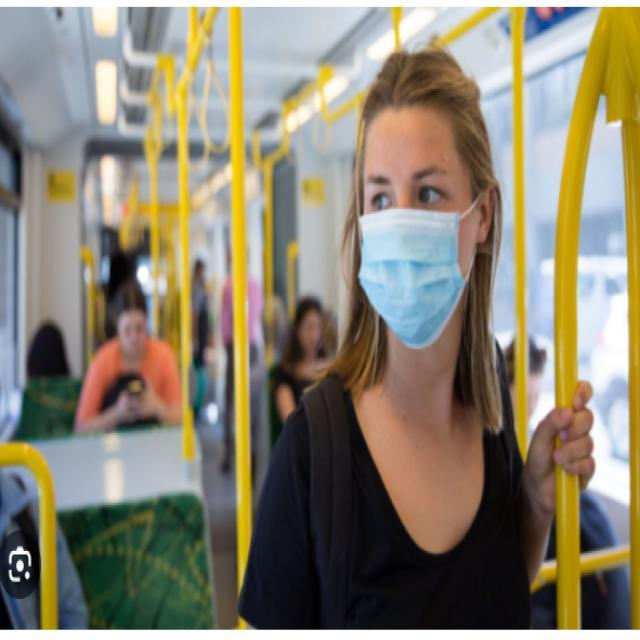face_mask: (356, 119, 490, 334)
